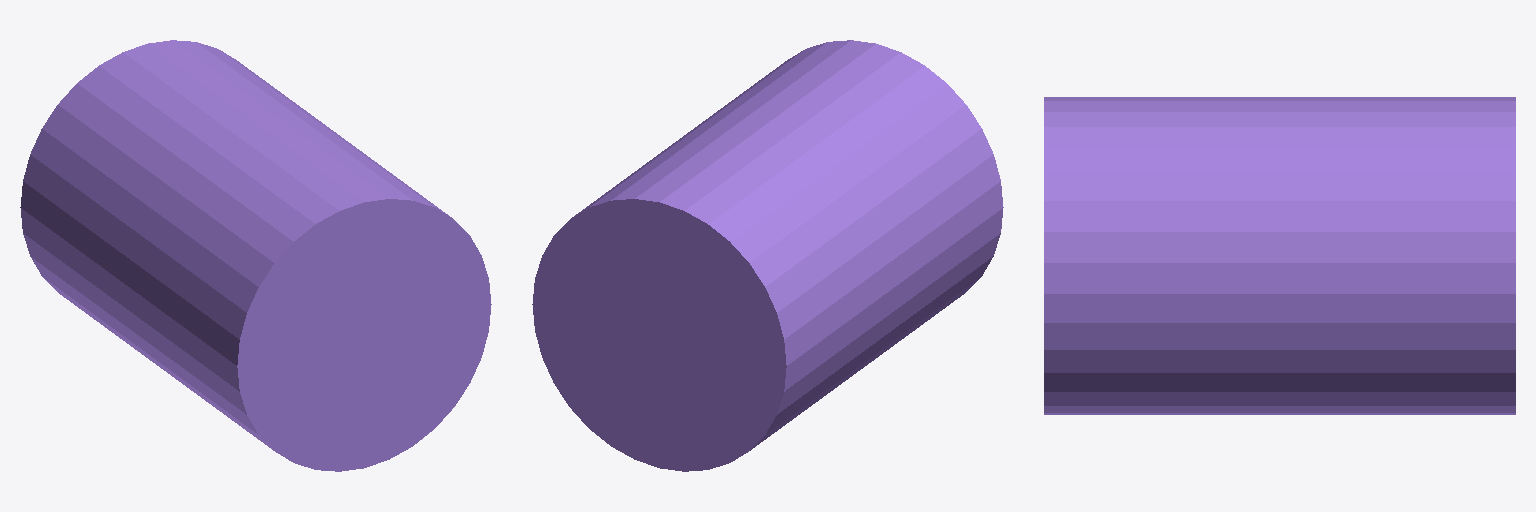
The robot description file, URDF, robot "object":
<?xml version="1.0"?>
 <robot name="object">
   <material name="light_green">
     <color rgba="0 1 0.498 1"/>
   </material>
   <material name="coral">
     <color rgba="1 0.498 0.3137 1"/>
   </material>
   <material name="dark_red">
     <color rgba="0.753 0.251 0.251 1"/>
   </material>
   <material name="white">
     <color rgba="1 1 1 1"/>
   </material>
   <material name="purple">
     <color rgba="0.68 0.55 0.90 1"/>
   </material>
   <link name="soup">
     <visual>
       <geometry>
         <cylinder length="0.1000" radius="0.033829689025878906"/>
         <!-- <mesh filename="textured_simple_reoriented.obj" scale="1 1 1"/> -->
       </geometry>
       <material name="purple"/>
       <origin xyz="0 0 0" rpy="1.5707963 0 0"/>
     </visual>
     <inertial>
       <mass value="0"/>
       <inertia ixx="1.0" ixy="0.0" ixz="0.0" iyy="1.0" iyz="0.0" izz="1.0"/>
     </inertial>
   </link>
 </robot>

--- What the picture shows (computed from the rendered views, not written in the file) ---
Views: 3 orthographic renders of the robot side by side, from view 1: azimuth 30°, elevation 25°; view 2: azimuth 150°, elevation 25°; view 3: azimuth 270°, elevation 25°.
Model object with 1 links and 0 joints (none), rooted at soup, posed every joint at zero.
Links seen in each view (by area): view 1: soup; view 2: soup; view 3: soup.
Link boxes in pixels (bbox=[...]): soup: bbox=[20, 40, 491, 471]; soup: bbox=[532, 40, 1003, 471]; soup: bbox=[1044, 97, 1515, 414].
Bounding box of the posed robot: 0.0677 × 0.1 × 0.0677 m (x, y, z).
Geometry: primitives only (box / cylinder / sphere), no mesh files.